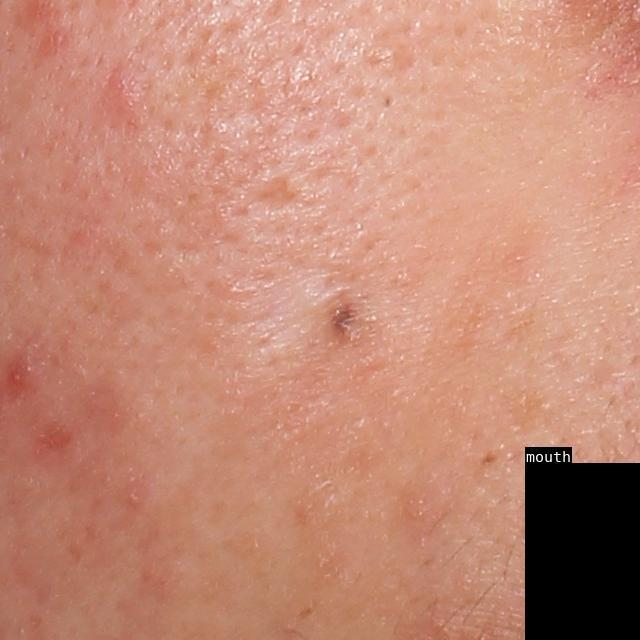atrophic_scar: (252, 180, 306, 211)
nevus: (328, 297, 358, 346)
papule: (94, 71, 143, 117)
